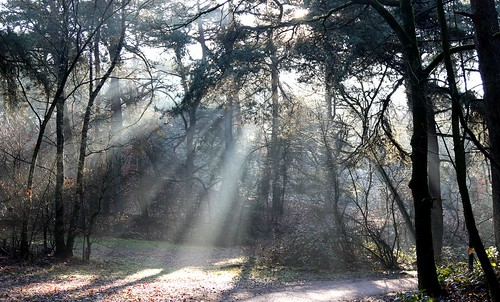vegetation: (1, 1, 480, 265)
